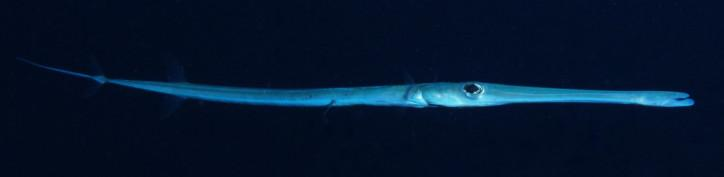Fistularia commersonii: (16, 54, 696, 113)
